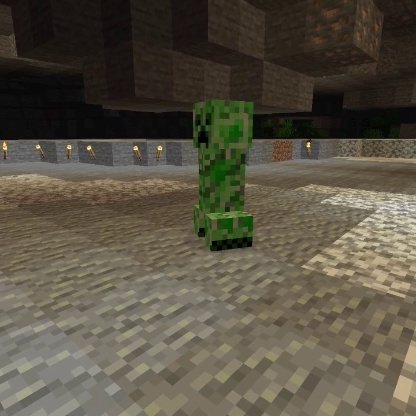creeper: (190, 96, 258, 255)
